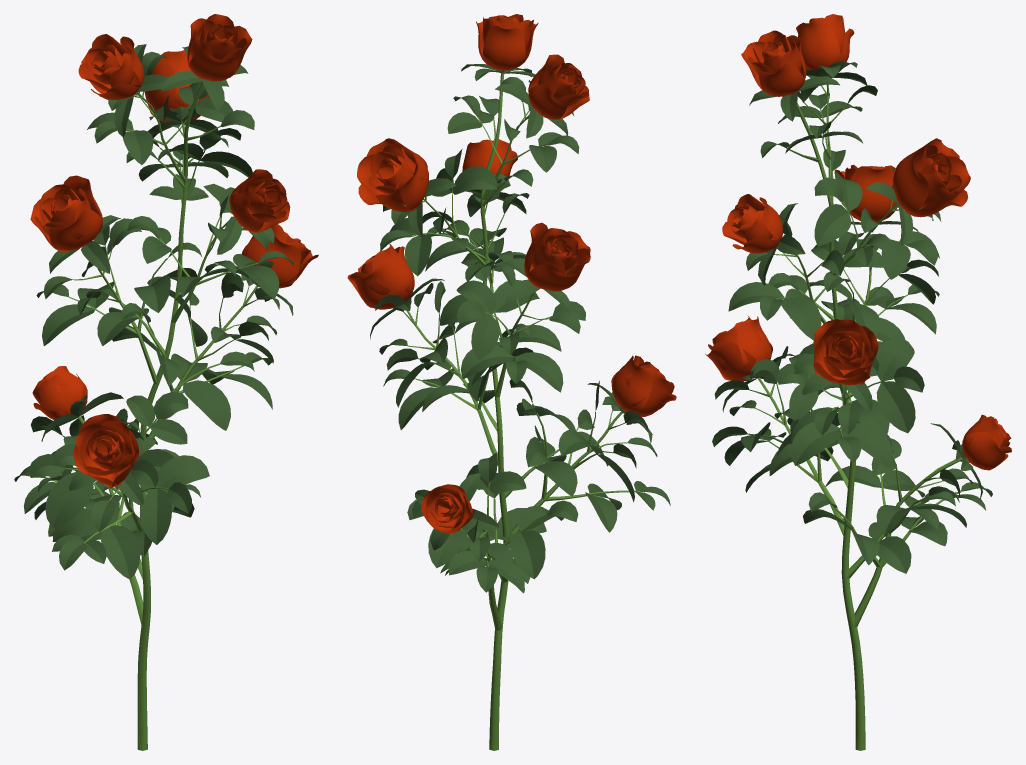
The model's file is rosas64.fbx.
3 views of the same model, side by side, from view 1: azimuth 30°, elevation 25°; view 2: azimuth 150°, elevation 25°; view 3: azimuth 270°, elevation 25° (orthographic). The views are drawn at different scales.
Parts seen in each view (by area): view 1: Rosas6:Plantas, polySurface123, polySurface183, polySurface63, polySurface33, polySurface243, polySurface153, polySurface215, polySurface93; view 2: Rosas6:Plantas, polySurface93, polySurface123, polySurface33, polySurface153, polySurface63, polySurface183, polySurface215, polySurface243; view 3: Rosas6:Plantas, polySurface93, polySurface153, polySurface63, polySurface183, polySurface243, polySurface33, polySurface215, polySurface123.
Part boxes in pixels (x1,y1,x2,y2): Rosas6:Plantas: (14, 44, 293, 750); polySurface123: (30, 175, 102, 252); polySurface183: (73, 414, 138, 488); polySurface63: (187, 14, 252, 81); polySurface33: (78, 34, 144, 99); polySurface243: (229, 169, 290, 232); polySurface153: (241, 224, 318, 288); polySurface215: (32, 366, 87, 419); polySurface93: (144, 50, 209, 122); Rosas6:Plantas: (370, 64, 670, 750); polySurface93: (357, 138, 428, 212); polySurface123: (524, 222, 590, 291); polySurface33: (528, 54, 589, 119); polySurface153: (347, 244, 414, 309); polySurface63: (476, 14, 538, 70); polySurface183: (611, 355, 676, 416); polySurface215: (421, 484, 474, 533); polySurface243: (462, 139, 517, 190); Rosas6:Plantas: (712, 61, 992, 750); polySurface93: (892, 138, 970, 217); polySurface153: (813, 319, 878, 385); polySurface63: (741, 30, 806, 96); polySurface183: (705, 315, 772, 381); polySurface243: (722, 194, 782, 253); polySurface33: (796, 14, 854, 72); polySurface215: (962, 414, 1011, 470); polySurface123: (834, 164, 897, 221).
Bounding box in the file's own units: 21.67 × 52.16 × 20.01.
